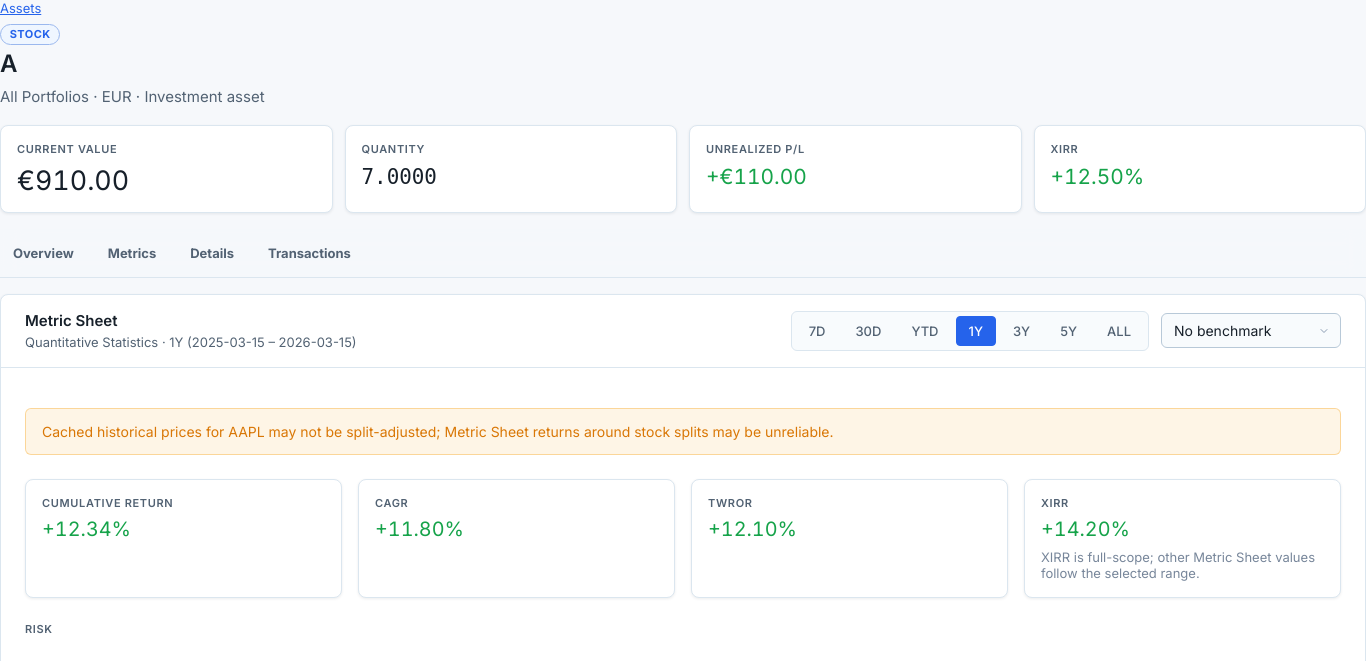
Scenario: AssetDetail Page › Metric Sheet › passes benchmark param and shows benchmark table when returned
Select "S&P 500" in the dropdown named "asset-metric-sheet-benchmark" at (1251, 331), box 1161,313 -> 1341,348
(page scrolled)
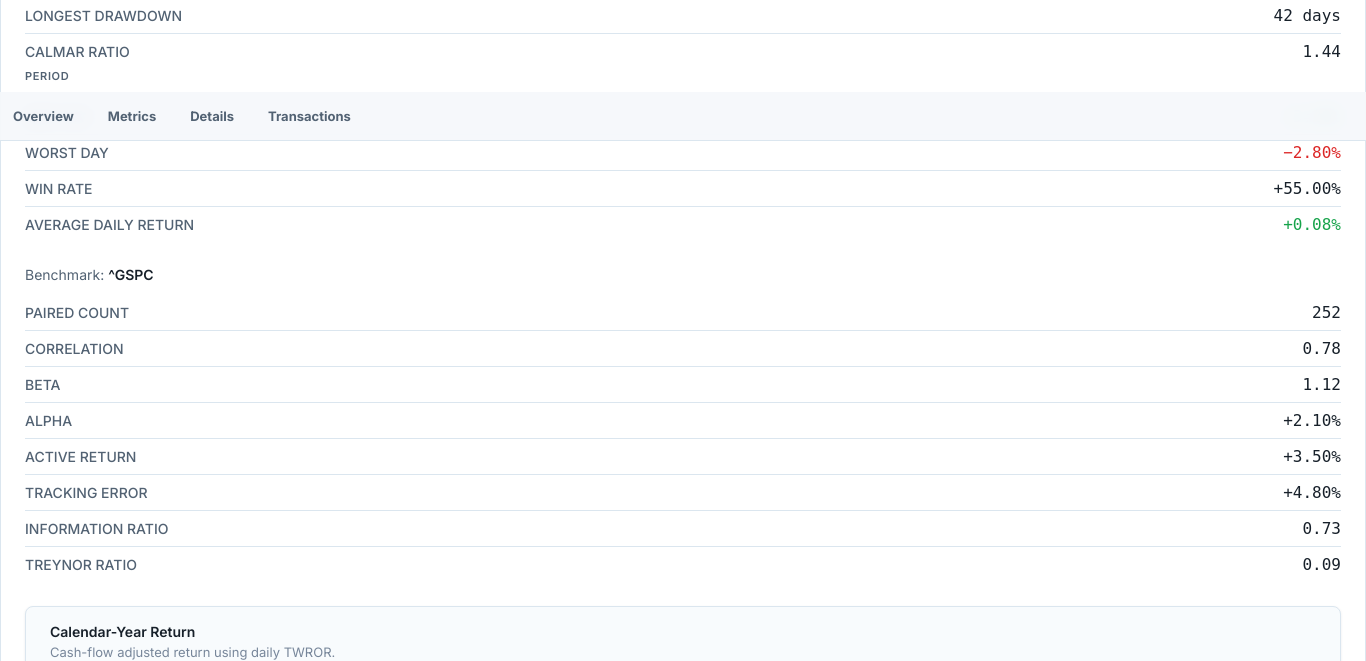
expect the column heading "Beta" is shown: met, box 25,367 -> 963,403
